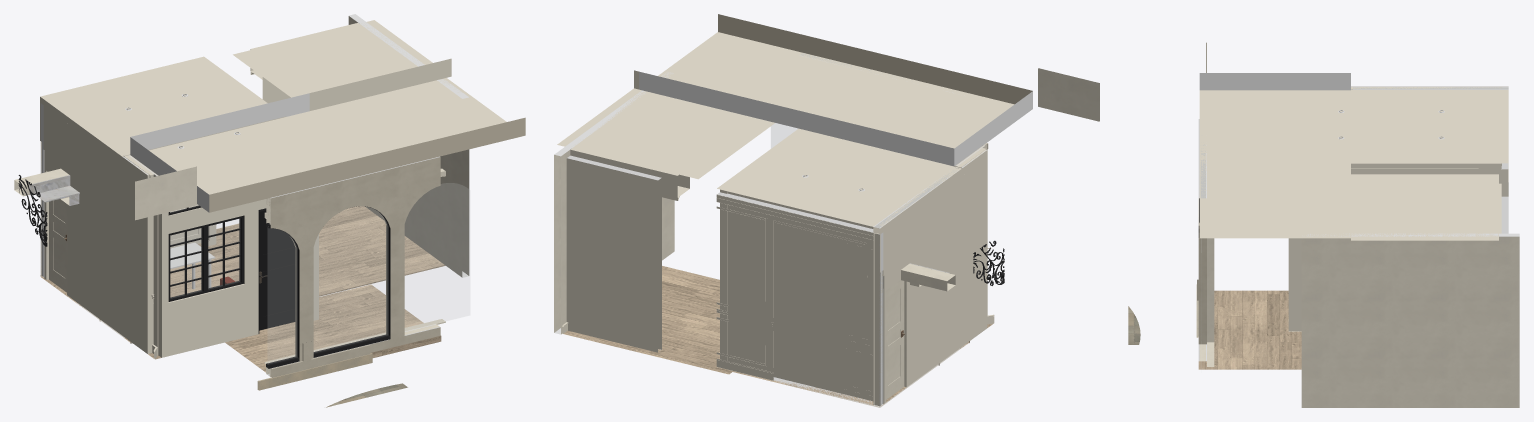
File: office-west-d874bc216c34.glb
3 renders of one model, left to right at view 1: azimuth 30°, elevation 25°; view 2: azimuth 150°, elevation 25°; view 3: azimuth 270°, elevation 25°, orthographic. The views are drawn at different scales.
Visible parts, largest first — view 1: office-west-look-dbd60ee5c3733ed6, office-west-6a051330000fbca1, office-west-look-c9e78b9ec1bb39cd, office-west-2575515a05775d9e, office-west-look-2575515a05775d9e, office-west-look-c02a36d0521470a9, office-west-a822d30aa9e2c55a, office-west-look-5cbcc744e6f960f3, office-west-look-3b0077416469e01b, office-west-look-6a1144f4e43410bb, office-west-look-c374268555806af8, office-west-dbd60ee5c3733ed6 (+18 smaller); view 2: office-west-look-dbd60ee5c3733ed6, office-west-fca9ba73dd7496f7, office-west-6a051330000fbca1, office-west-look-19647d6da46c2b80, office-west-2575515a05775d9e, office-west-look-2575515a05775d9e, office-west-look-3b0077416469e01b, office-west-19647d6da46c2b80, office-west-look-6a1144f4e43410bb, office-west-look-34525a54e63b733b, office-west-80d276f58a4dc5cb, office-west-7b11e78295c2e11d (+12 smaller); view 3: office-west-look-6a1144f4e43410bb, office-west-look-dbd60ee5c3733ed6, office-west-2575515a05775d9e, office-west-look-2575515a05775d9e, office-west-look-c374268555806af8, office-west-dbd60ee5c3733ed6, office-west-7b11e78295c2e11d, office-west-look-c9e78b9ec1bb39cd, office-west-a822d30aa9e2c55a, office-west-look-e54cb06e326b7f4f, office-west-9cfa99552c9f4048, office-west-6a051330000fbca1 (+1 smaller).
Part boxes in pixels (box(x1,y1,x2,y2)): office-west-look-dbd60ee5c3733ed6: box(130, 78, 525, 212); office-west-6a051330000fbca1: box(40, 97, 158, 354); office-west-look-c9e78b9ec1bb39cd: box(266, 156, 440, 376); office-west-2575515a05775d9e: box(40, 56, 286, 156); office-west-look-2575515a05775d9e: box(233, 20, 451, 110); office-west-look-c02a36d0521470a9: box(314, 206, 388, 352); office-west-a822d30aa9e2c55a: box(158, 140, 305, 357); office-west-look-5cbcc744e6f960f3: box(405, 183, 469, 330); office-west-look-3b0077416469e01b: box(216, 206, 445, 296); office-west-look-6a1144f4e43410bb: box(348, 14, 469, 277); office-west-look-c374268555806af8: box(225, 284, 441, 372); office-west-dbd60ee5c3733ed6: box(130, 117, 318, 175); office-west-look-dbd60ee5c3733ed6: box(639, 14, 1032, 165); office-west-fca9ba73dd7496f7: box(727, 191, 844, 393); office-west-6a051330000fbca1: box(873, 145, 987, 405); office-west-look-19647d6da46c2b80: box(566, 155, 661, 352); office-west-2575515a05775d9e: box(717, 128, 961, 226); office-west-look-2575515a05775d9e: box(557, 70, 774, 179); office-west-look-3b0077416469e01b: box(564, 266, 731, 374); office-west-19647d6da46c2b80: box(717, 192, 873, 404); office-west-look-6a1144f4e43410bb: box(554, 72, 674, 334); office-west-look-34525a54e63b733b: box(1038, 68, 1099, 121); office-west-80d276f58a4dc5cb: box(886, 281, 904, 399); office-west-7b11e78295c2e11d: box(720, 105, 837, 360); office-west-look-6a1144f4e43410bb: box(1301, 233, 1519, 407); office-west-look-dbd60ee5c3733ed6: box(1199, 73, 1350, 238); office-west-2575515a05775d9e: box(1351, 90, 1508, 163); office-west-look-2575515a05775d9e: box(1351, 174, 1498, 240); office-west-look-c374268555806af8: box(1198, 290, 1301, 369); office-west-dbd60ee5c3733ed6: box(1288, 89, 1350, 163); office-west-7b11e78295c2e11d: box(1288, 160, 1501, 331); office-west-look-c9e78b9ec1bb39cd: box(1198, 119, 1206, 361); office-west-a822d30aa9e2c55a: box(1288, 90, 1296, 331); office-west-look-e54cb06e326b7f4f: box(1207, 238, 1214, 366); office-west-9cfa99552c9f4048: box(1351, 163, 1478, 168); office-west-6a051330000fbca1: box(1351, 87, 1508, 196).
Size of the model in its own units: 6.87 by 3.92 by 6.21.
28 materials, 7 textured.
